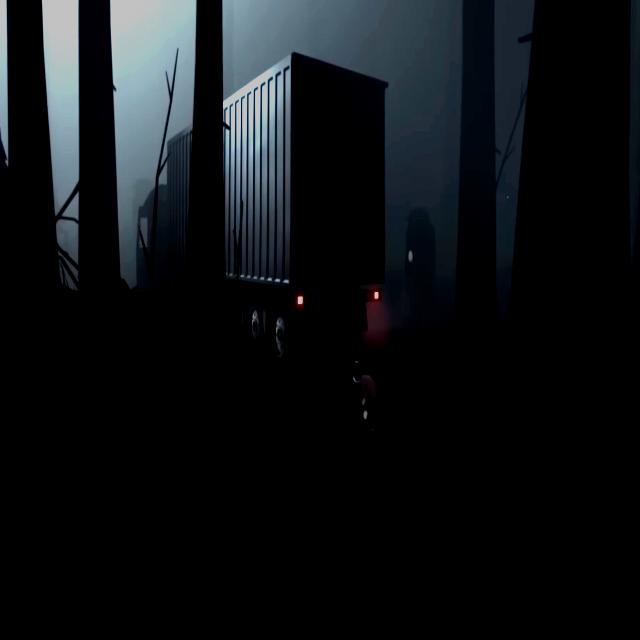boy: (351, 360, 381, 436)
